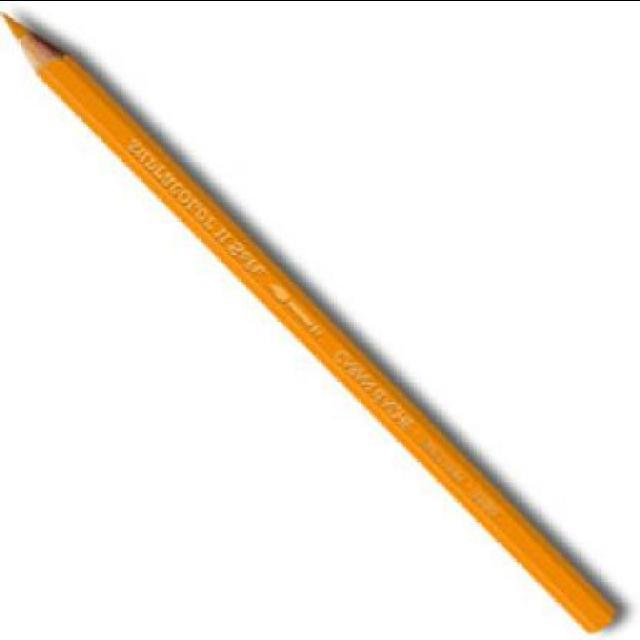Pencil: (2, 4, 116, 124)
